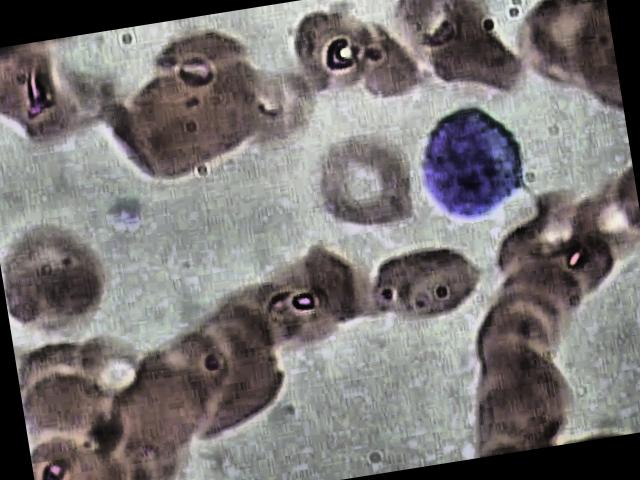RBC: (0, 212, 116, 345), (359, 239, 496, 337), (304, 132, 422, 237), (281, 3, 395, 100), (104, 368, 218, 464), (233, 262, 347, 358), (146, 20, 255, 114), (465, 366, 573, 457), (511, 0, 617, 91), (388, 0, 496, 67), (0, 38, 74, 131)
WBC: (410, 96, 540, 228)
